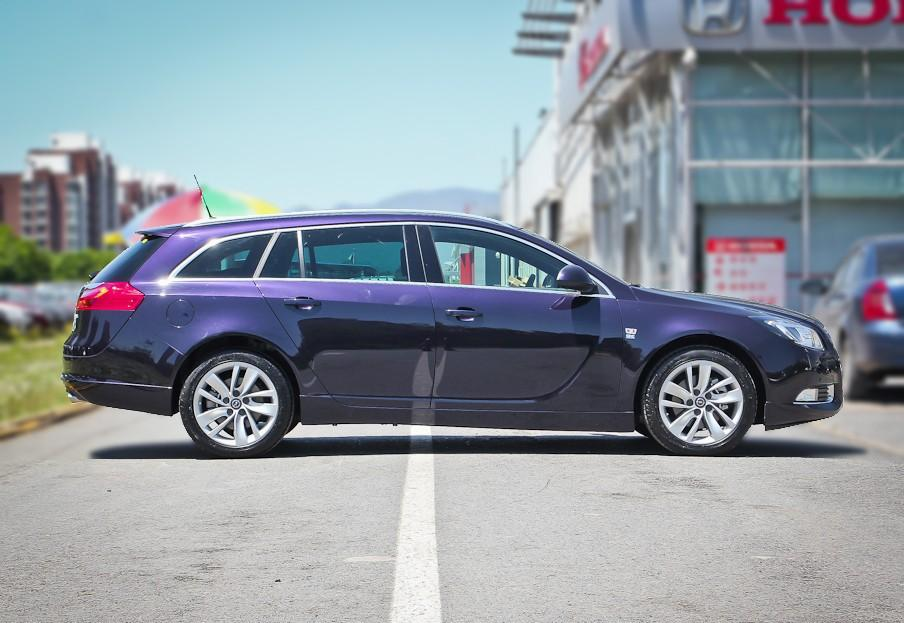Wagon: (62, 212, 844, 457)
